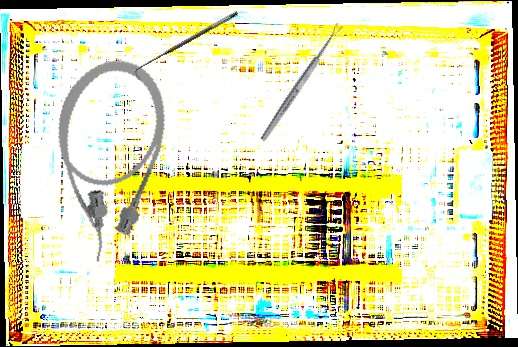Cannula: (30, 48, 179, 270)
Hook Surgical: (129, 9, 244, 82)
Surgical Spoon: (258, 22, 345, 143)
